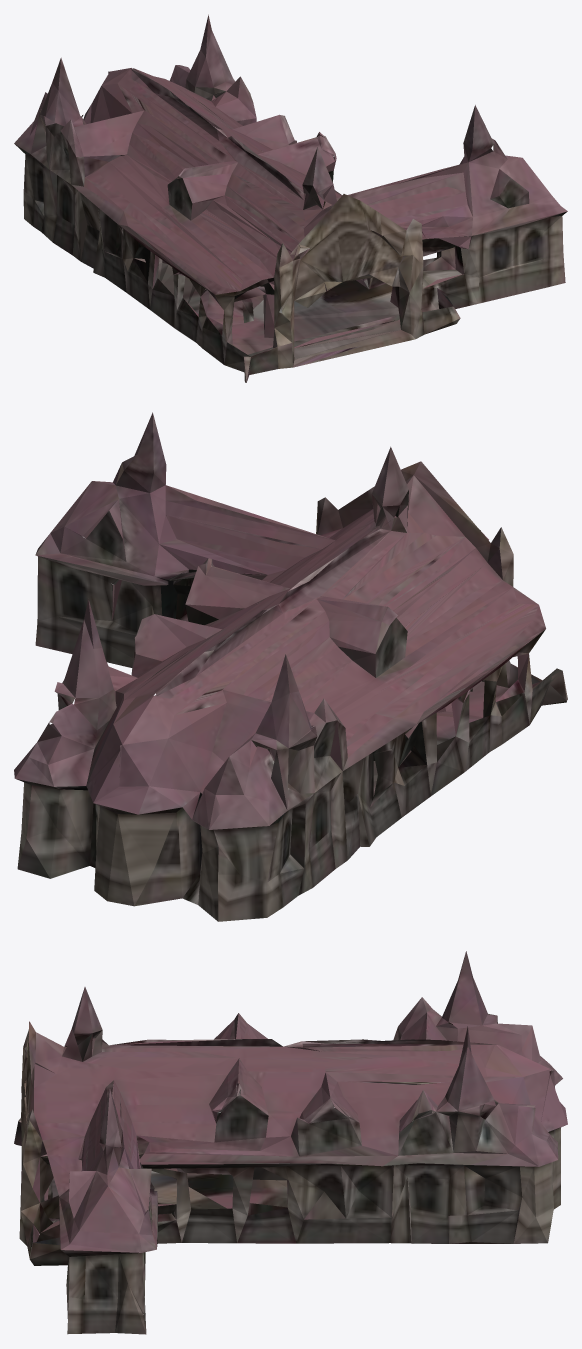
The model's file is park_coaster_station_1117.glb.
3 views of the same model, one above another, from view 1: azimuth 30°, elevation 25°; view 2: azimuth 150°, elevation 25°; view 3: azimuth 270°, elevation 25° (orthographic). The views are drawn at different scales.
Visible parts, largest first — view 1: world; view 2: world; view 3: world.
Part boxes in pixels (<box>): world: <box>14,14,567,382</box>; world: <box>14,412,567,921</box>; world: <box>14,951,567,1334</box>.
Bounding box in the file's own units: 1.93 × 1 × 2.31.
1 material, 1 textured.
